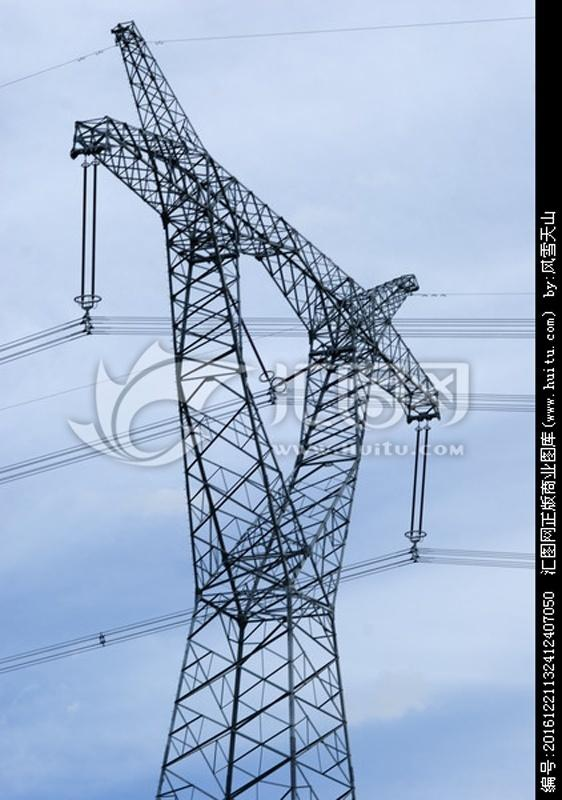power_tower: (20, 9, 450, 735)
